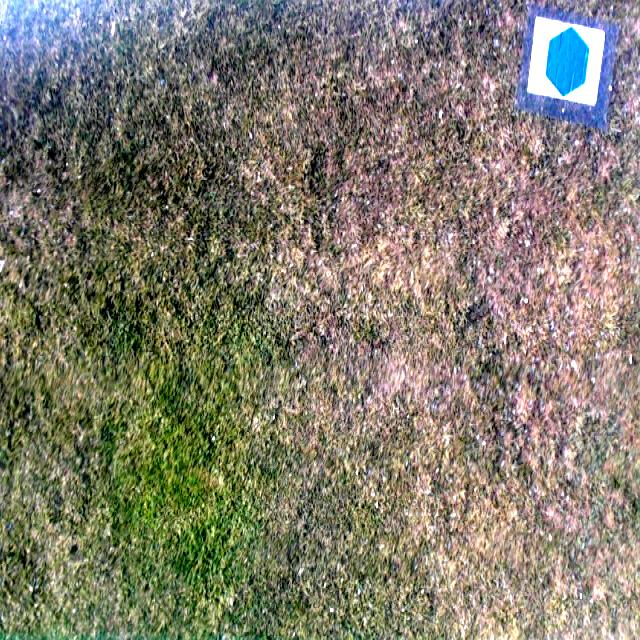blue_hexagon: (544, 24, 590, 100)
